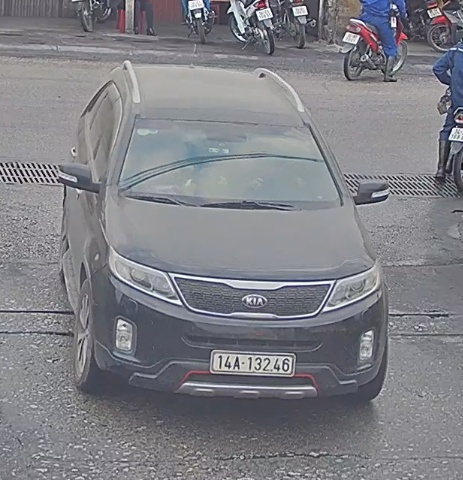vehicle plate: (205, 345, 299, 381)
